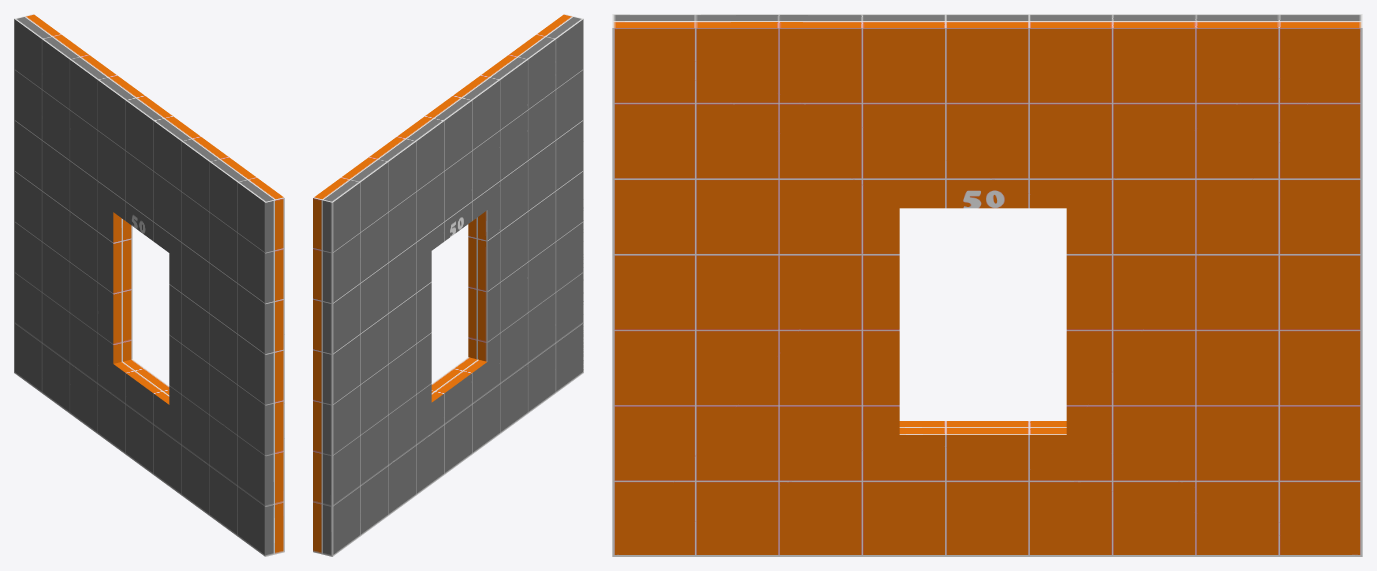
File: casa_pared_04.fbx
The picture shows the model from 3 angles, left to right: view 1: azimuth 30°, elevation 25°; view 2: azimuth 150°, elevation 25°; view 3: azimuth 270°, elevation 25°; orthographic projection. The views are drawn at different scales.
Parts seen in each view (by area): view 1: casa_pared_04; view 2: casa_pared_04; view 3: casa_pared_04.
Part boxes in pixels (x1,y1,x2,y2): casa_pared_04: (14,14,284,556); casa_pared_04: (313,14,583,556); casa_pared_04: (612,14,1362,556).
Size of the model in its own units: 20 by 350 by 450.
